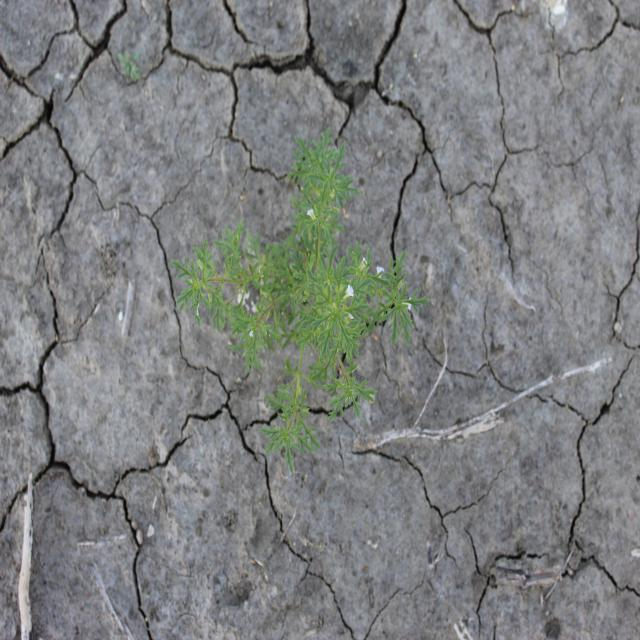Ragweed: (170, 123, 432, 476)
